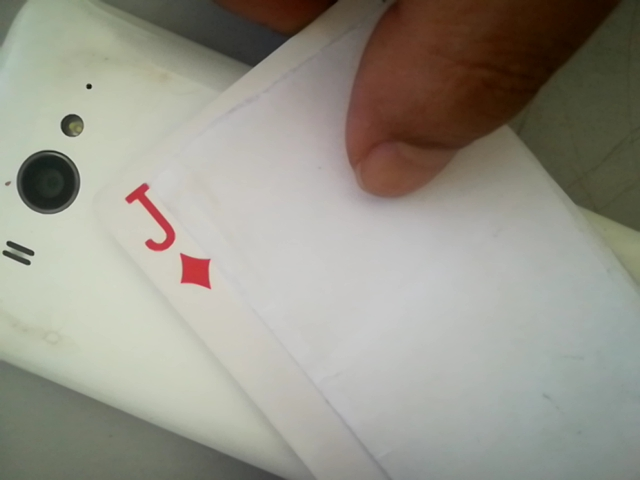fk j: (114, 179, 220, 296)
